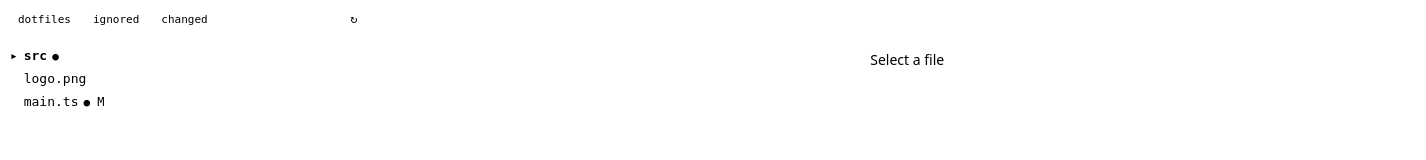
Test: file selection and the content pane › a too-large file shows the flag-driven note
Click the list item with class "tree-row" showing "main.ts ● M" at (64, 102), box [24,94,104,109]
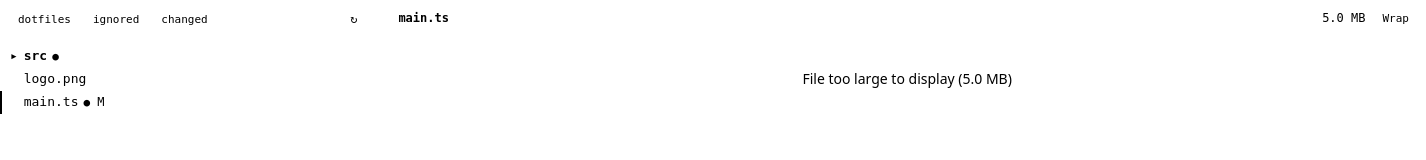
Expected: the text with test id "file-too-large" reads "File too large to display (5.0 MB)", [802,69,1012,88]
